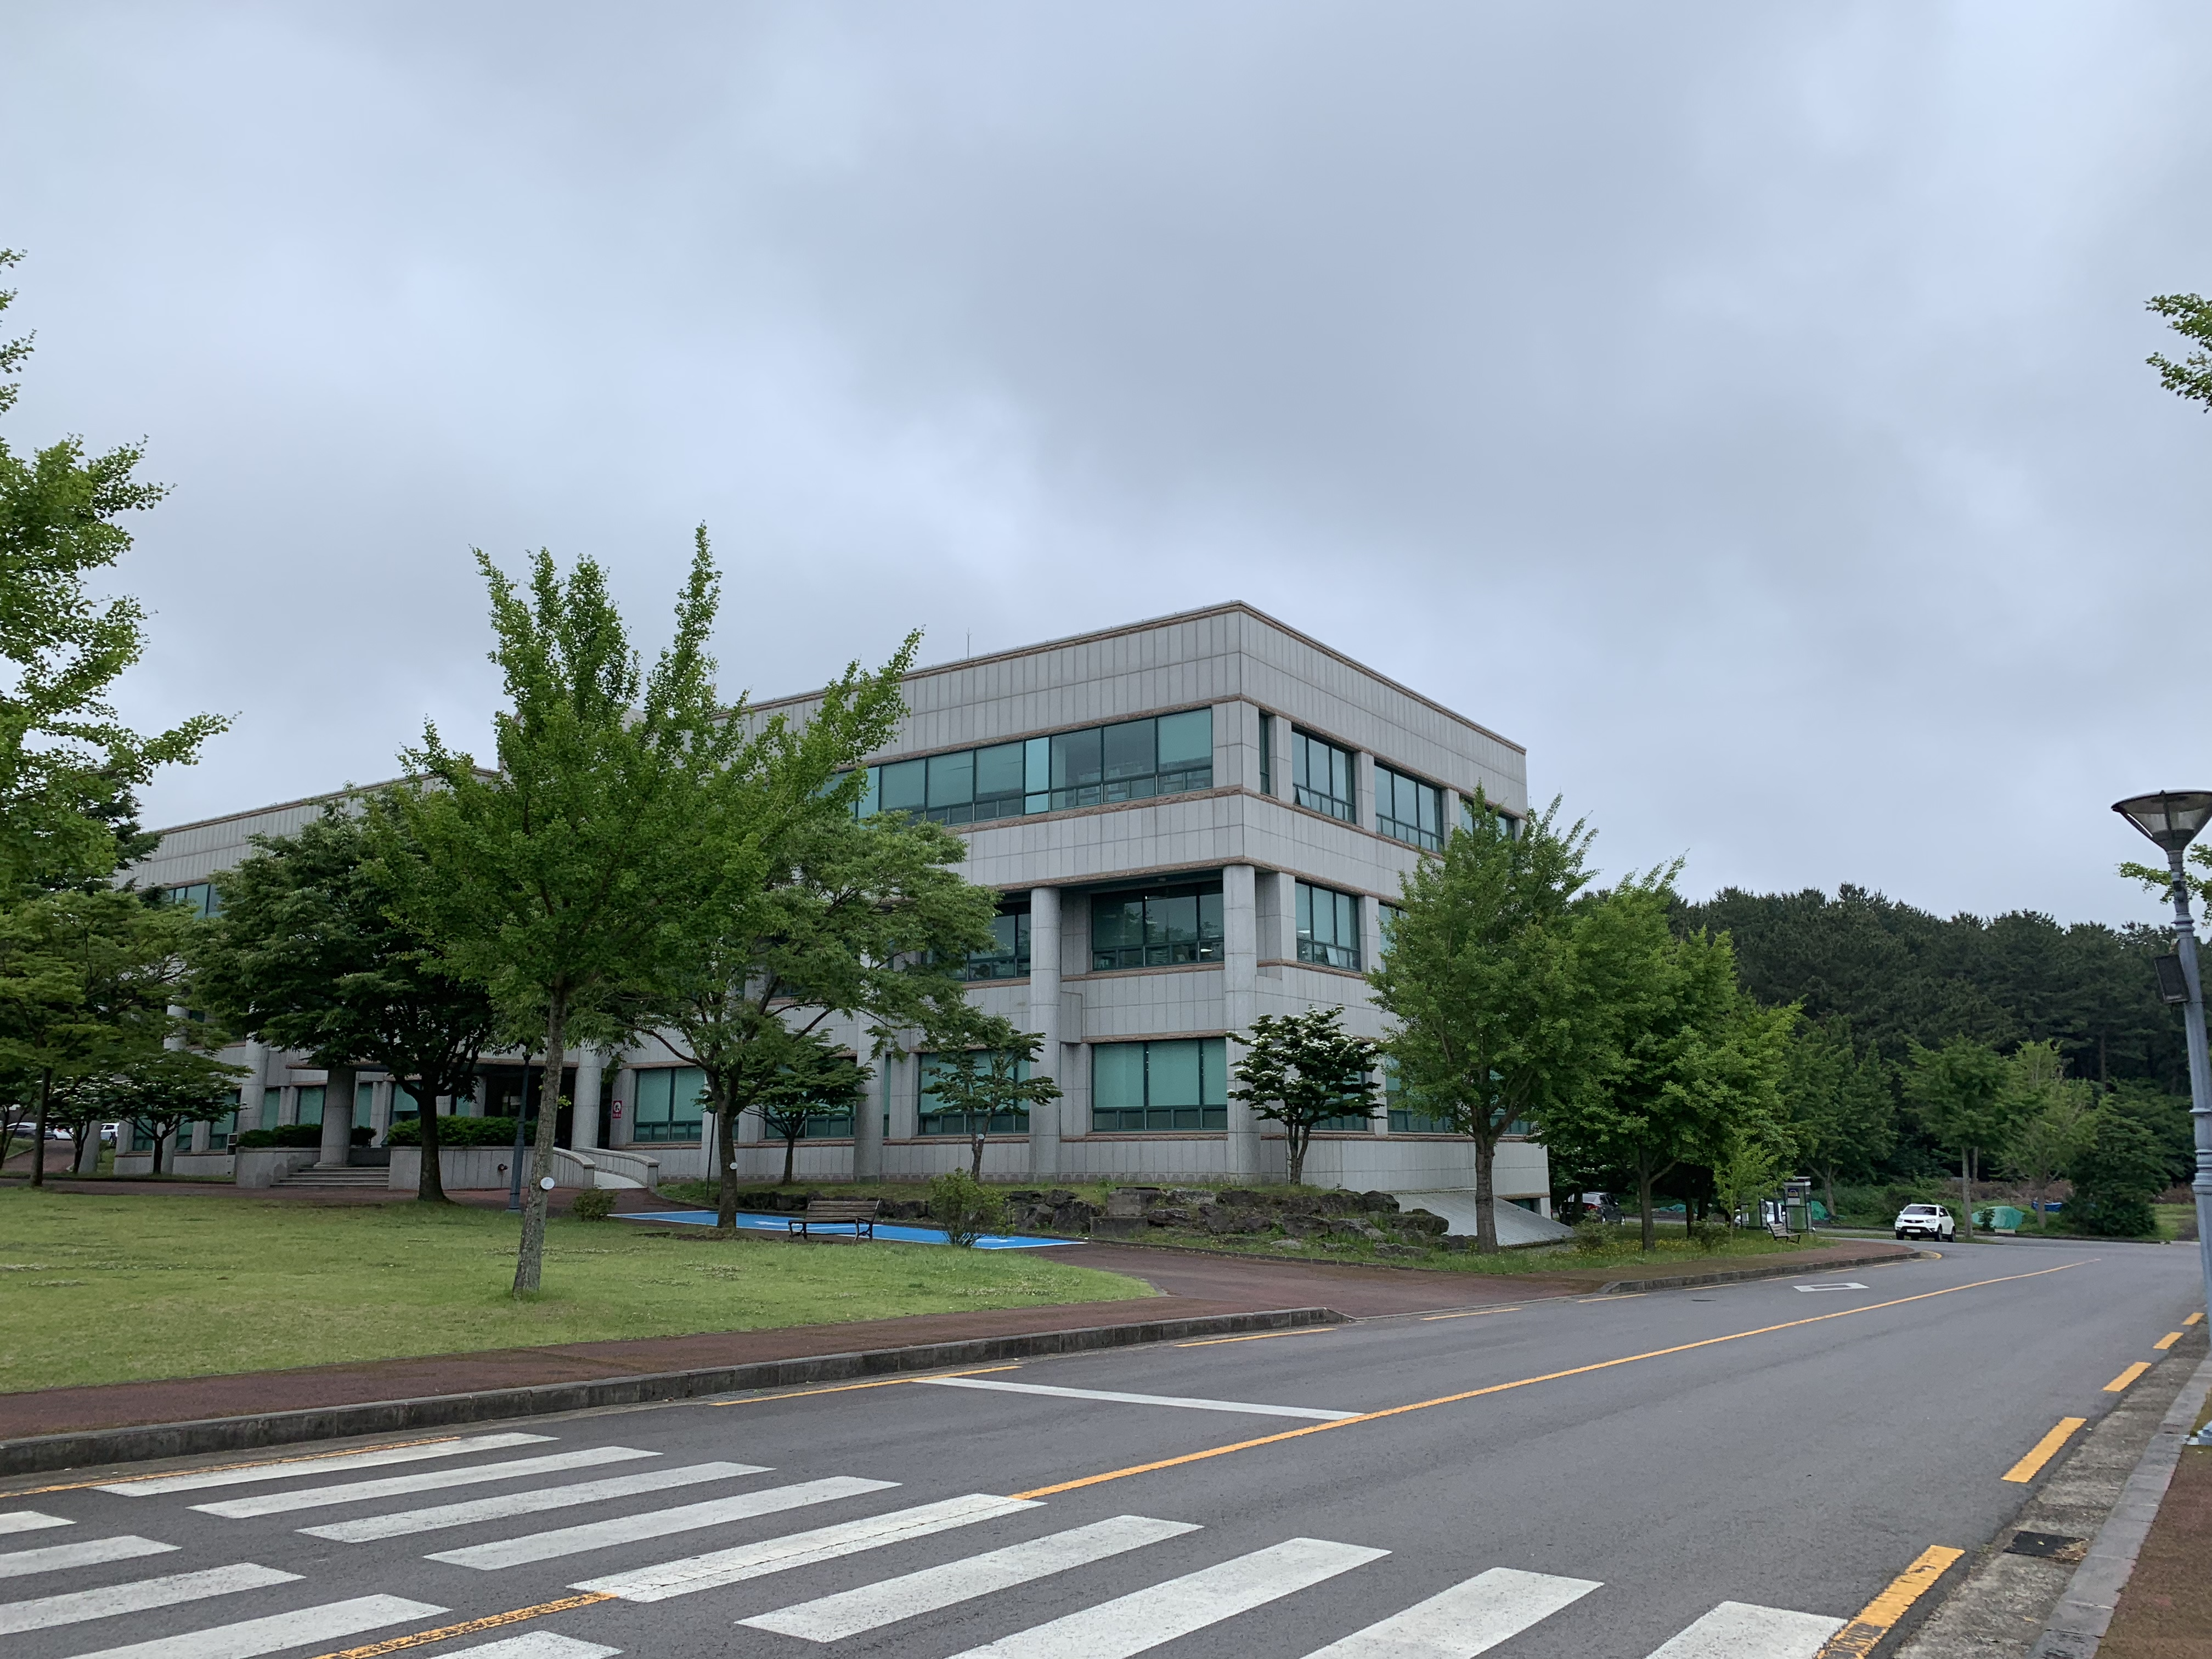Second Library: (709, 587, 1599, 1300)
